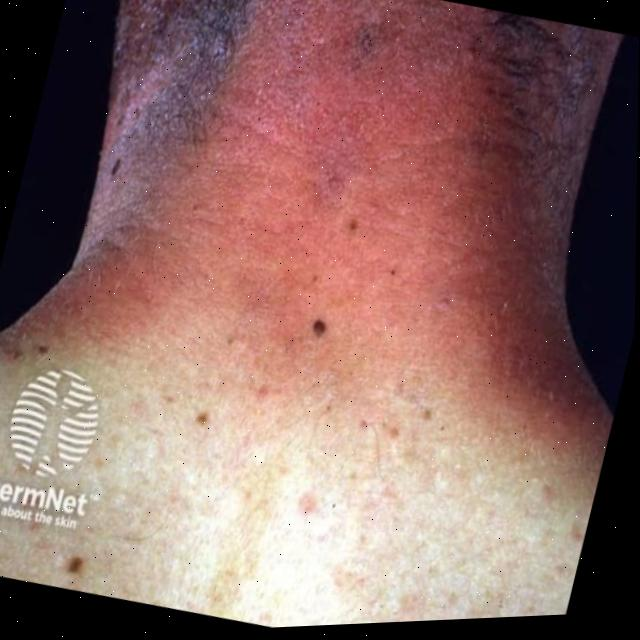Eczema: (75, 0, 593, 480)
